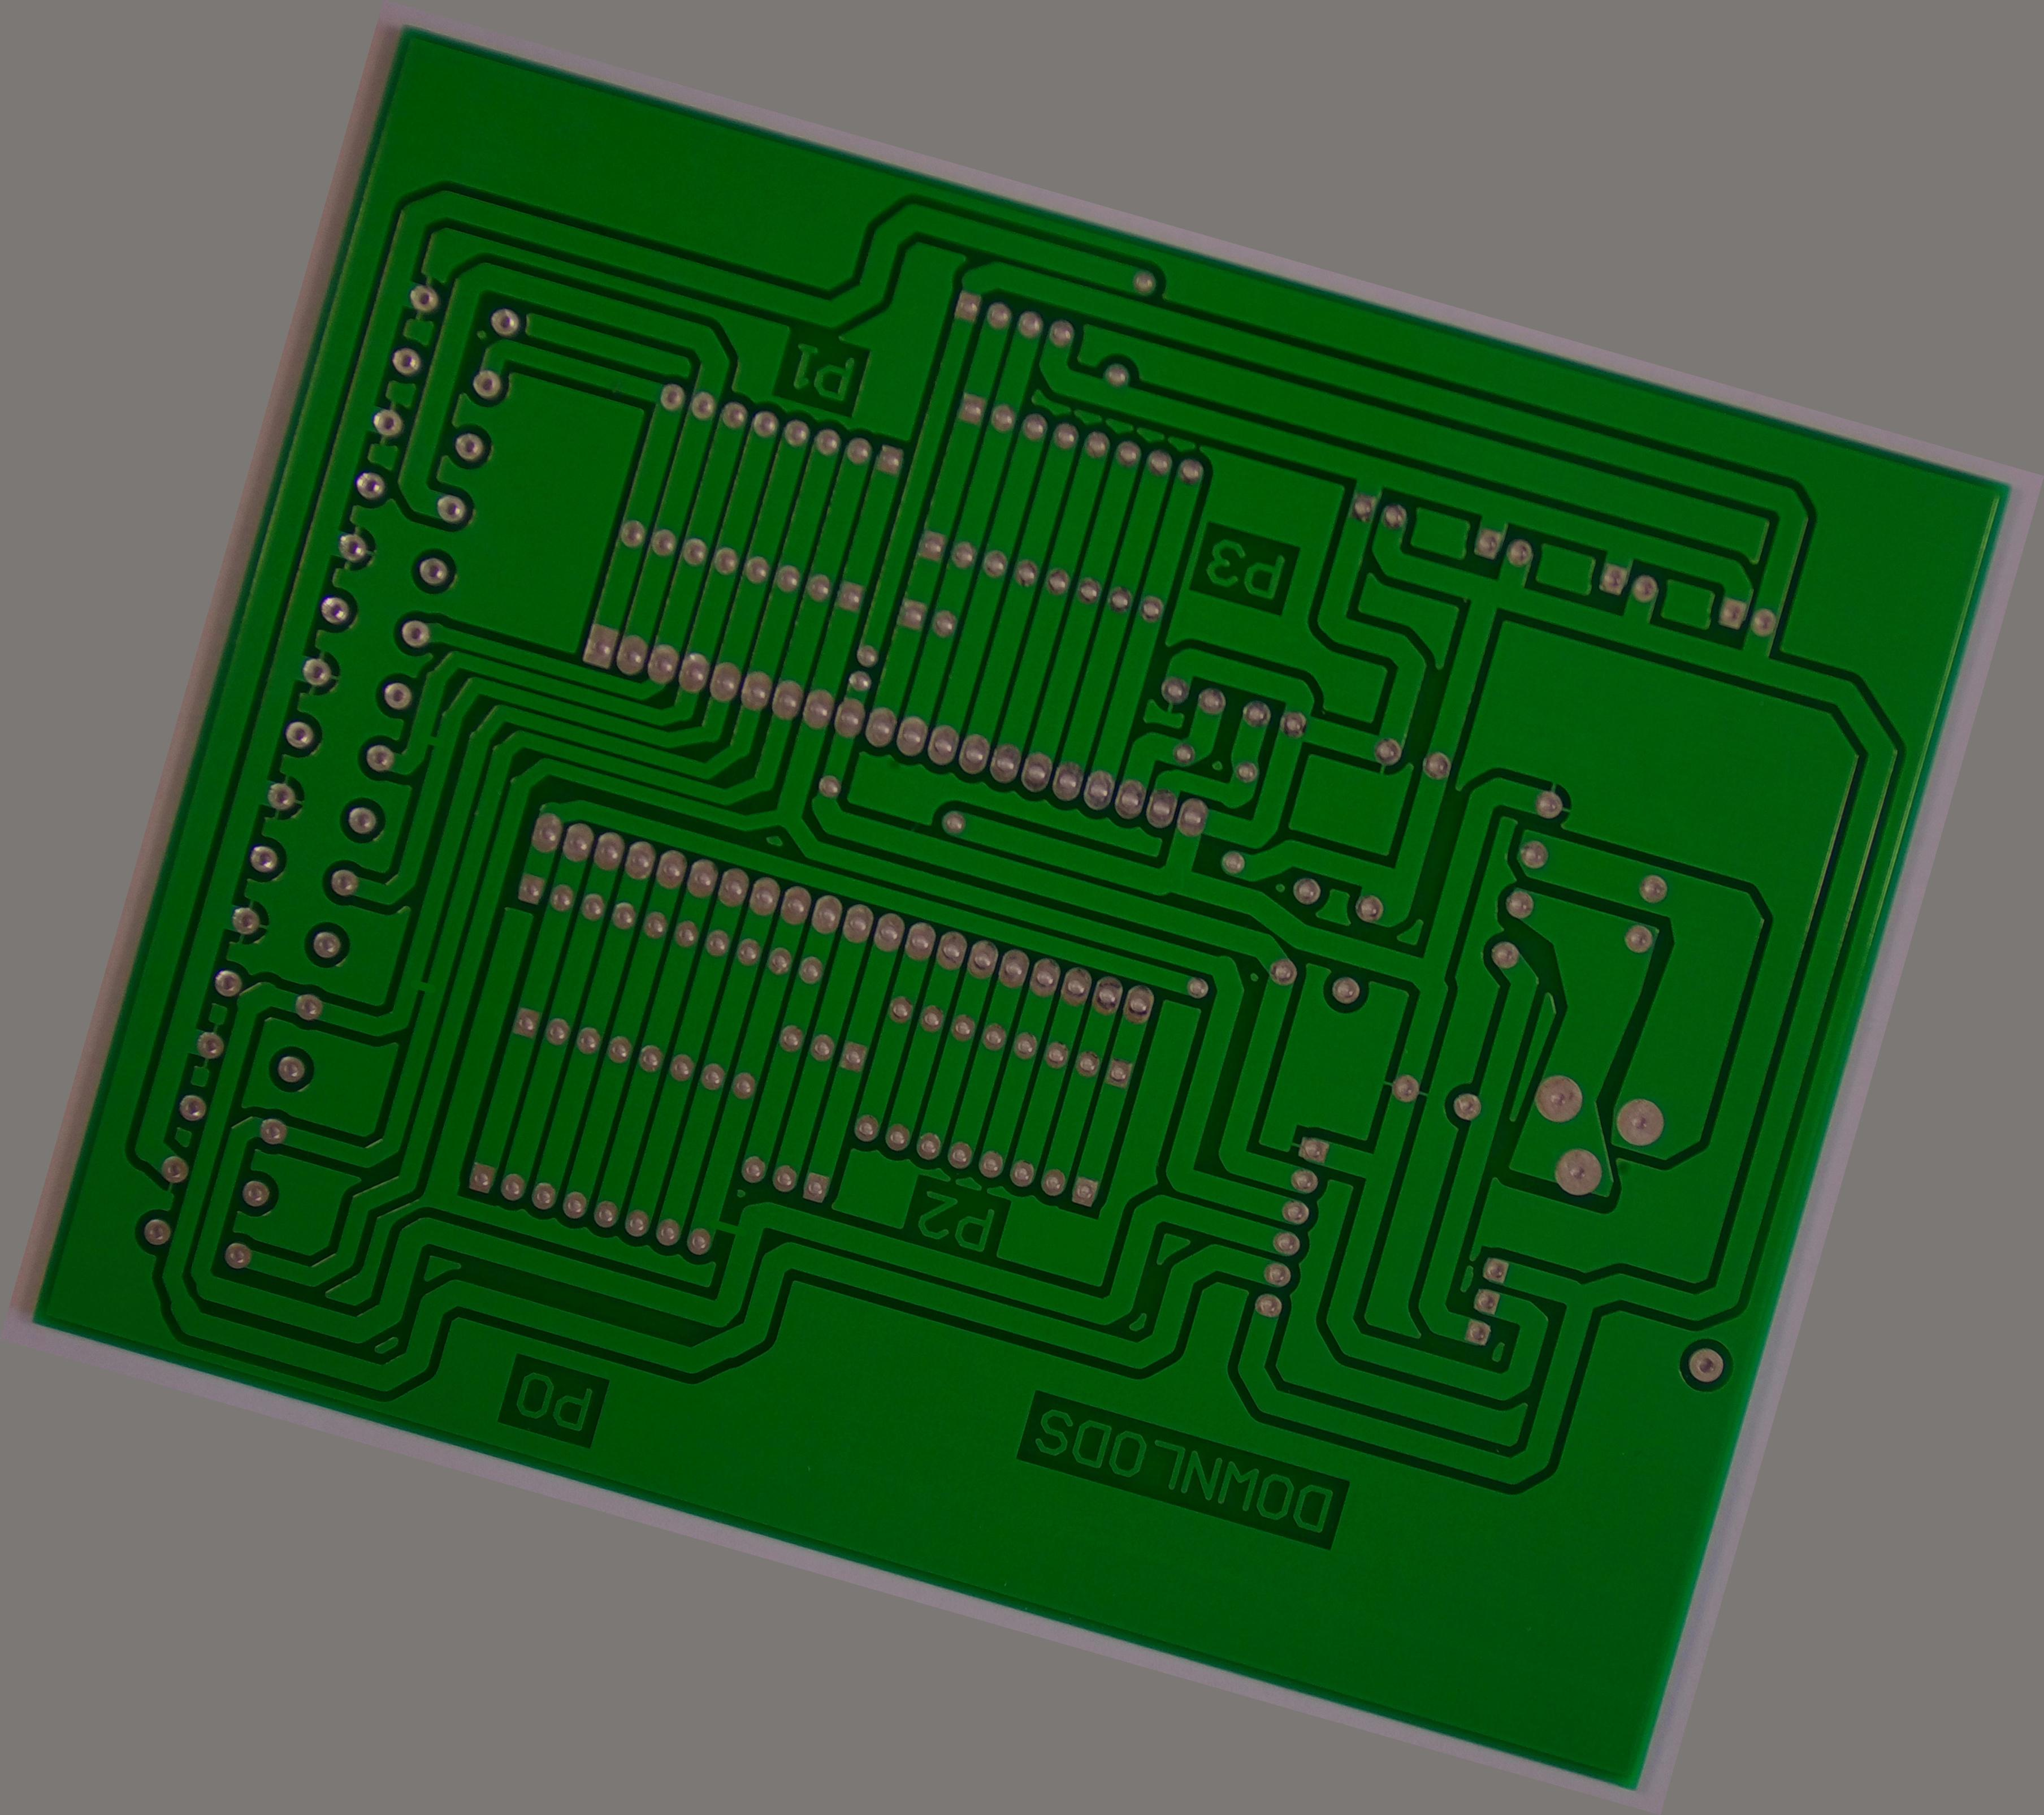short: (688, 1188, 767, 1267), (387, 950, 457, 1025), (394, 708, 466, 776)
